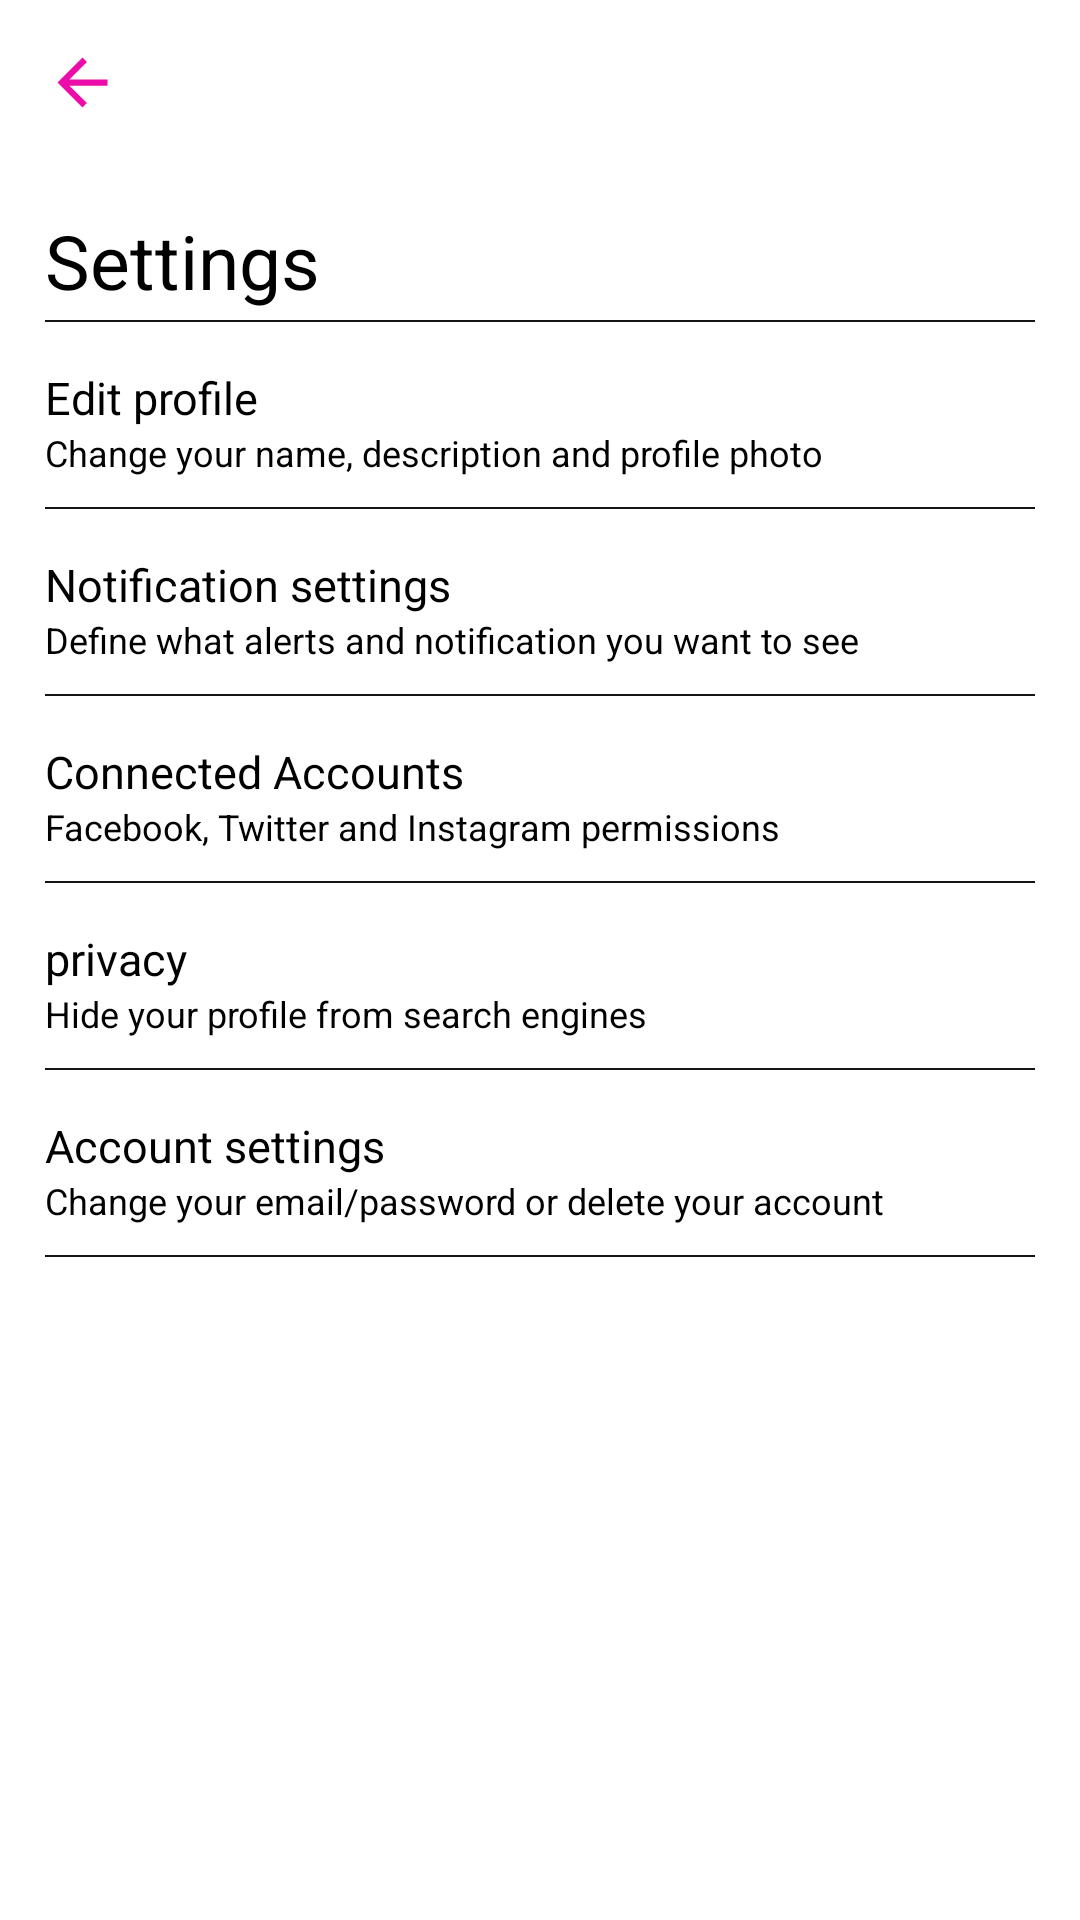

Where to tap for icons on this 1080×1920 app screen, as (x=x, y=y):
back: (x=82, y=82)
